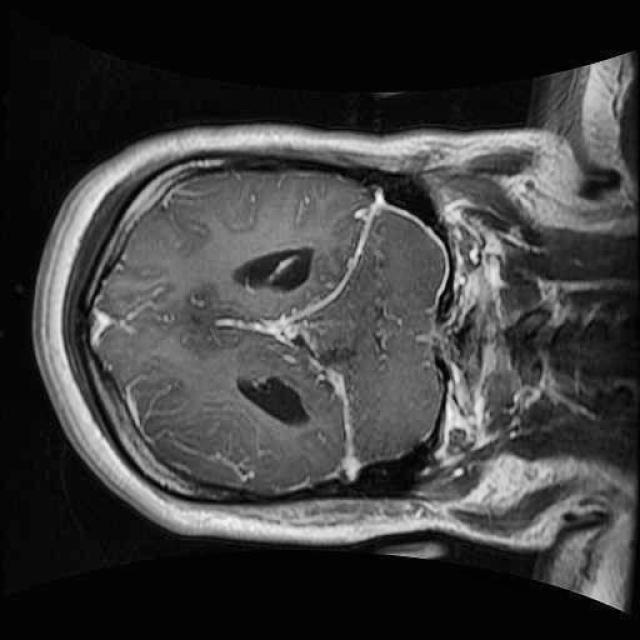Non-Tumor: (199, 280, 315, 372)
